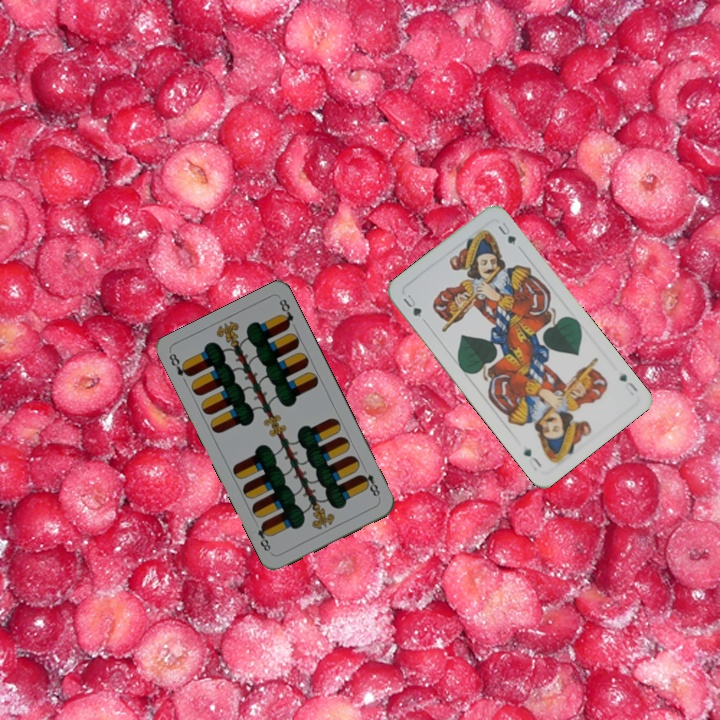E8: (165, 349, 193, 387), (356, 469, 383, 501)
GU: (399, 290, 424, 320), (615, 370, 640, 398)
